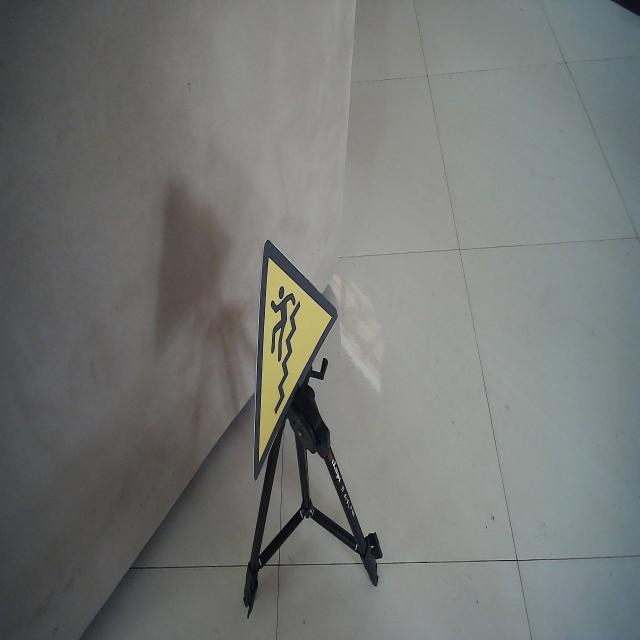stairs: (252, 228, 338, 482)
